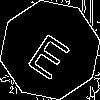E: (25, 25, 78, 81)
